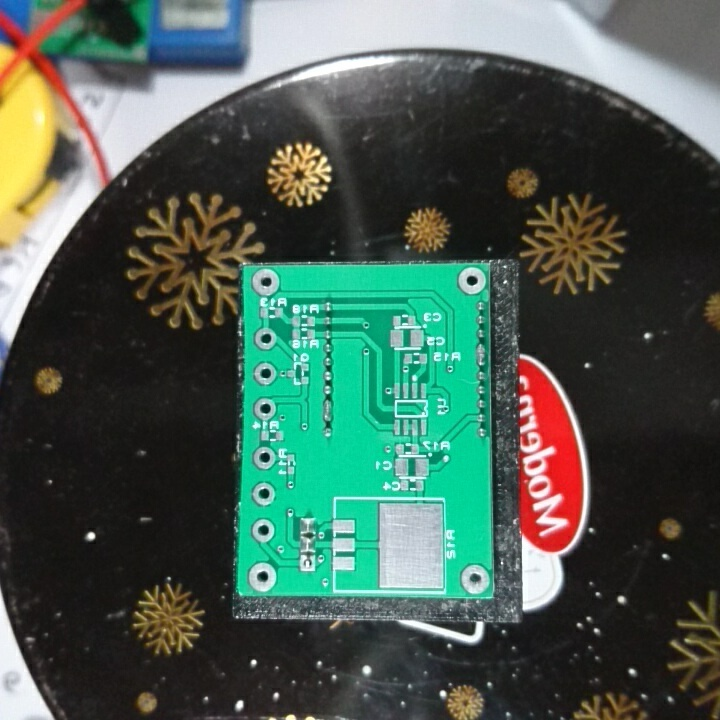F: (459, 560, 493, 596), (248, 265, 282, 299), (456, 264, 486, 297), (247, 560, 278, 590), (249, 479, 279, 509), (249, 515, 279, 545), (250, 395, 278, 422), (253, 358, 277, 389), (250, 446, 278, 472), (253, 326, 279, 352), (297, 552, 318, 575)
P: (321, 395, 336, 426), (473, 340, 489, 366)
